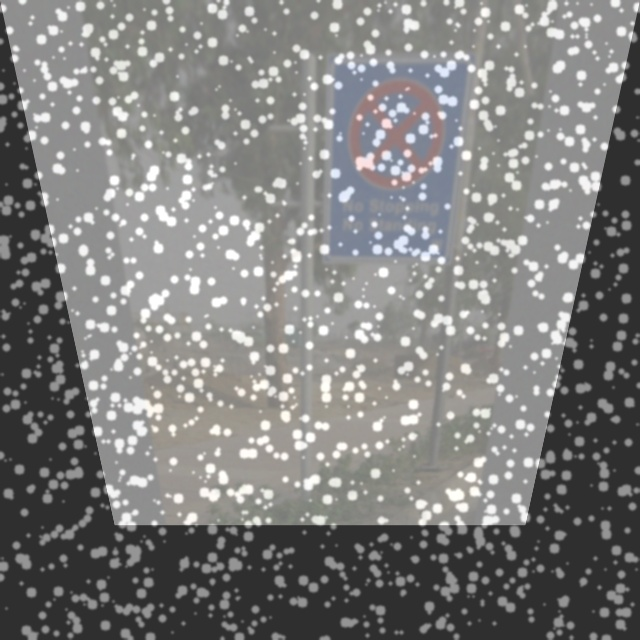No_Stopping_or_Standing: (339, 62, 456, 195)
